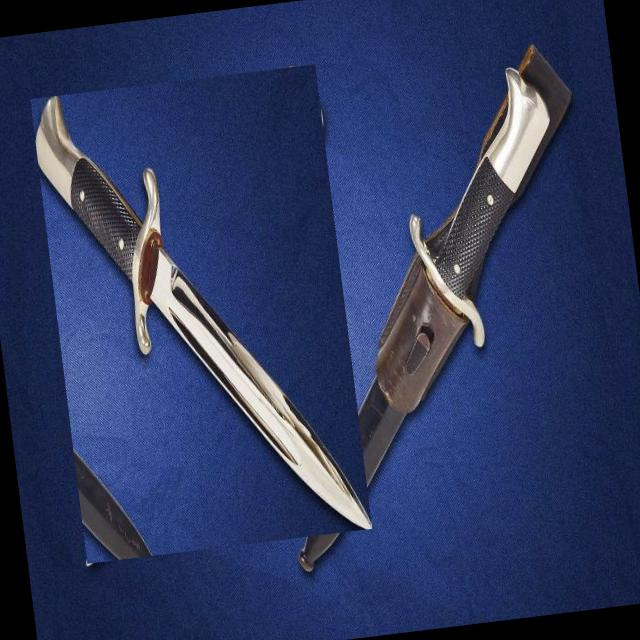Knife: (36, 96, 372, 529), (300, 48, 570, 566)
